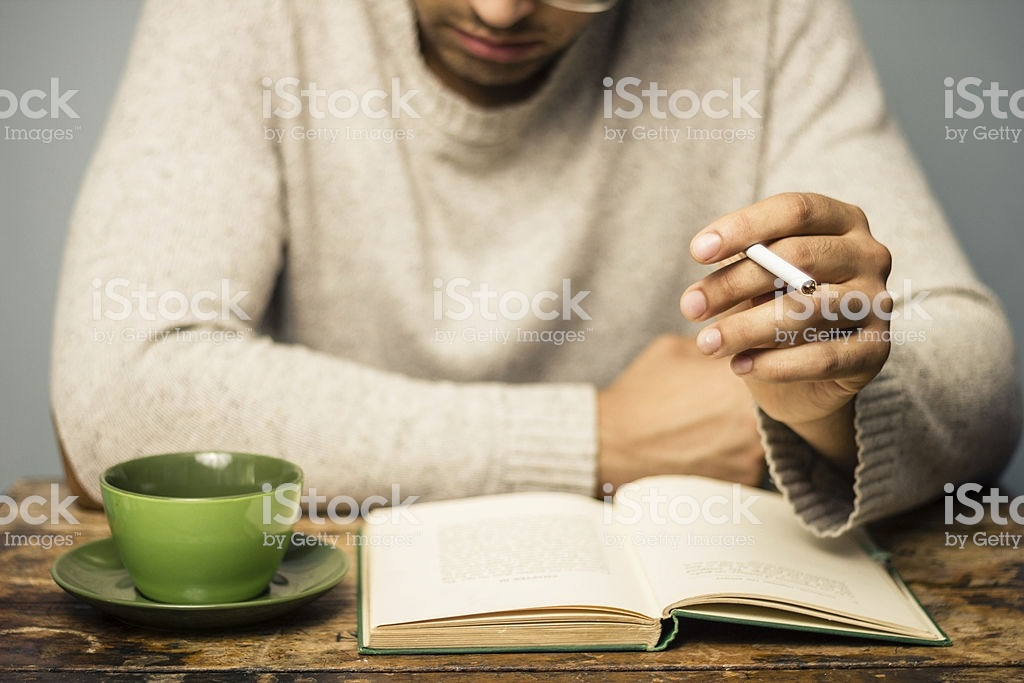sigaretta: (738, 245, 818, 298)
